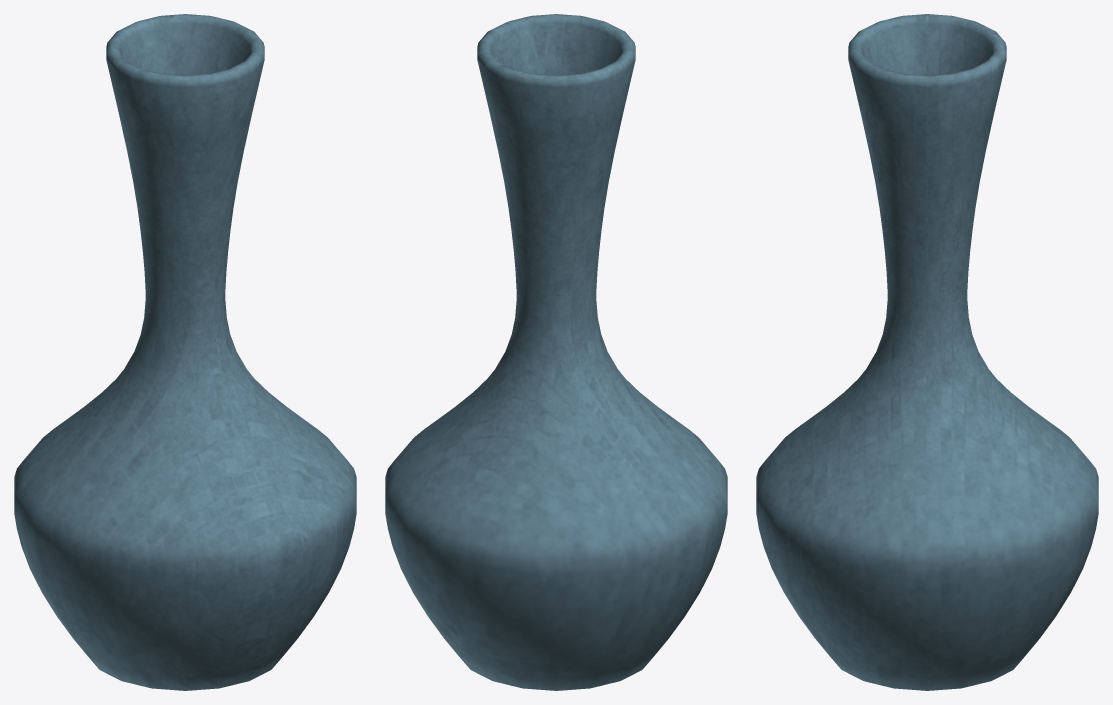
File: Vase-2-blue.glb
3 renders of one model, left to right at view 1: azimuth 30°, elevation 25°; view 2: azimuth 150°, elevation 25°; view 3: azimuth 270°, elevation 25°, orthographic.
Visible parts, largest first — view 1: Vase_2.001; view 2: Vase_2.001; view 3: Vase_2.001.
Boxes of the visible parts, left/top/right/bottom form: Vase_2.001: left=14, top=14, right=356, bottom=690; Vase_2.001: left=385, top=14, right=727, bottom=690; Vase_2.001: left=756, top=14, right=1098, bottom=690.
Bounding box in the file's own units: 0.4607 × 0.8907 × 0.4537.
Materials: 1 (1 with a texture image).
